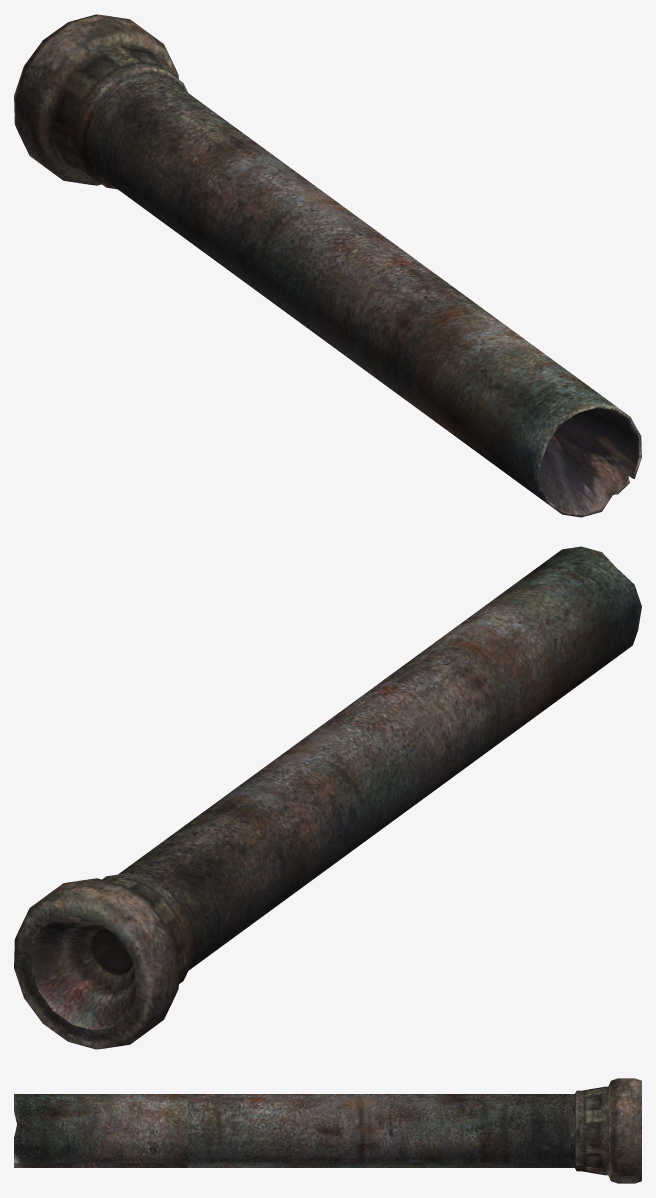
The model's file is pipe_broken_large.dae.
3 views of the same model, one above another, from view 1: azimuth 30°, elevation 25°; view 2: azimuth 150°, elevation 25°; view 3: azimuth 270°, elevation 25° (orthographic). The views are drawn at different scales.
Parts seen in each view (by area): view 1: pipe_broken_large; view 2: pipe_broken_large; view 3: pipe_broken_large.
Boxes of the visible parts, <box> form: pipe_broken_large: <box>14,14,641,517</box>; pipe_broken_large: <box>14,546,641,1049</box>; pipe_broken_large: <box>14,1078,641,1183</box>.
Size of the model in its own units: 33.84 by 33.84 by 201.
